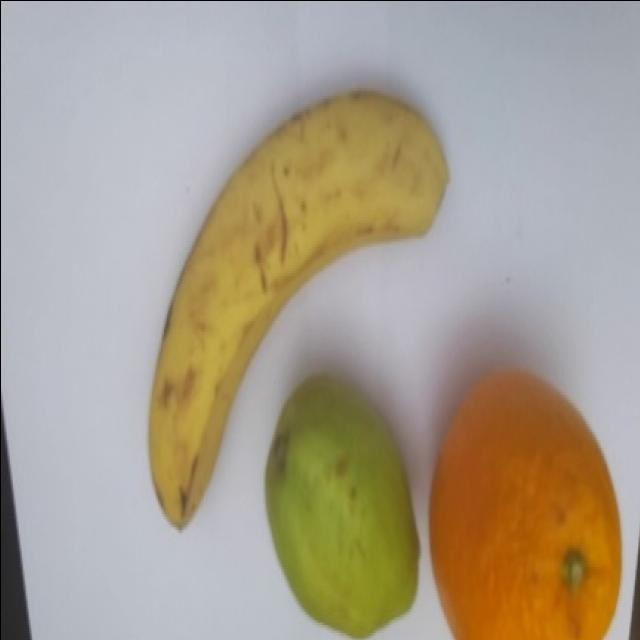Banana: (147, 87, 449, 531)
Orange: (428, 369, 622, 639)
